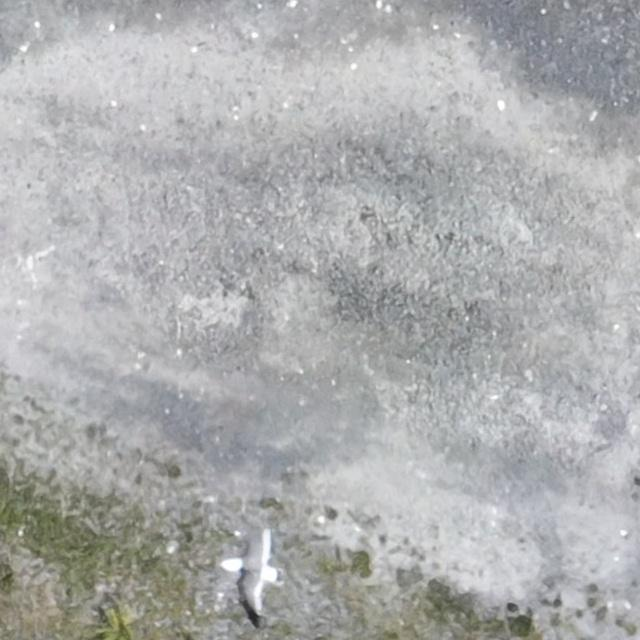umineko: (222, 532, 284, 617)
